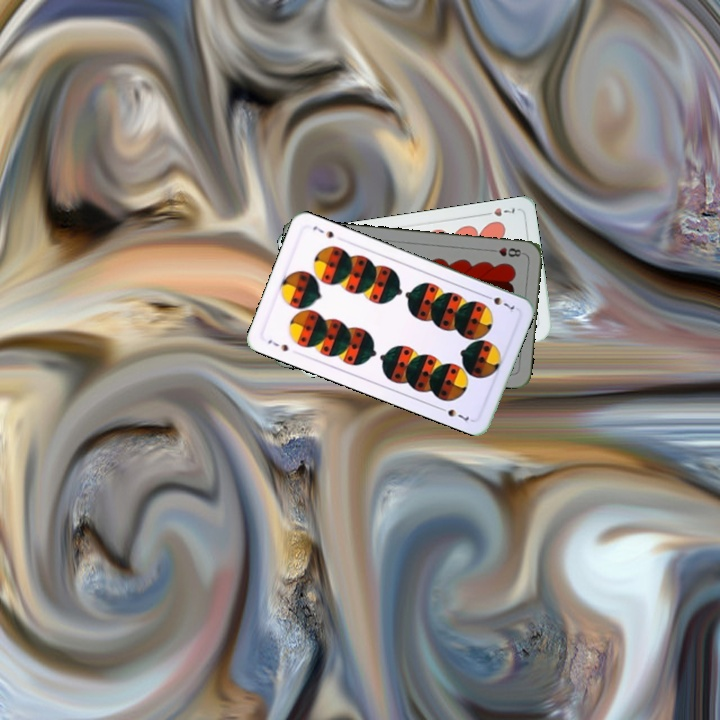H7: (479, 203, 517, 219)
H8: (486, 243, 526, 260)
S7: (480, 291, 517, 315), (264, 336, 291, 354)
